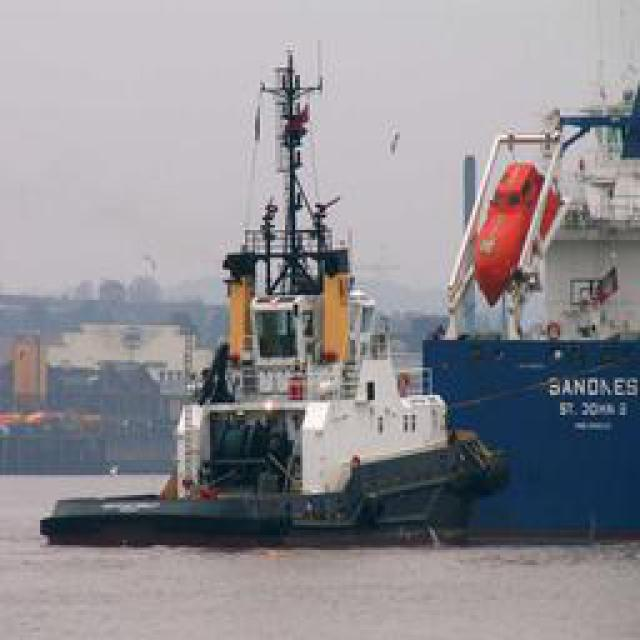Ship: (72, 32, 505, 552)
